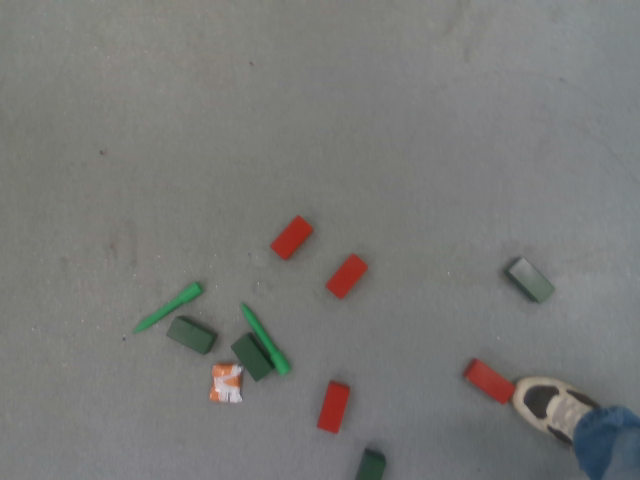Probe: (131, 278, 206, 336), (239, 299, 294, 377)
